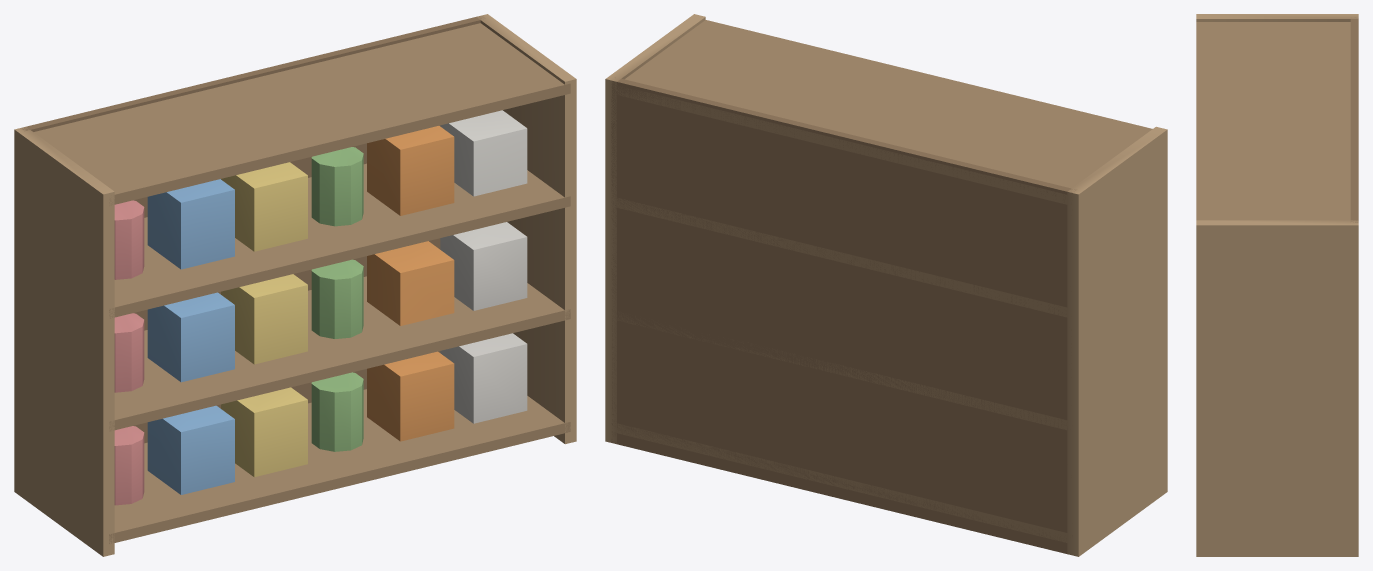
File: VShelfUnit.fbx
The picture shows the model from 3 angles, left to right: view 1: azimuth 30°, elevation 25°; view 2: azimuth 150°, elevation 25°; view 3: azimuth 270°, elevation 25°; orthographic projection. The views are drawn at different scales.
Parts seen in each view (by area): view 1: VShelfUnit; view 2: VShelfUnit; view 3: VShelfUnit.
Part boxes in pixels (left/top/right/bottom): VShelfUnit: left=14, top=14, right=576, bottom=556; VShelfUnit: left=605, top=14, right=1167, bottom=556; VShelfUnit: left=1196, top=14, right=1358, bottom=556.
Size of the model in its own units: 2.46 by 1.8 by 0.8.
